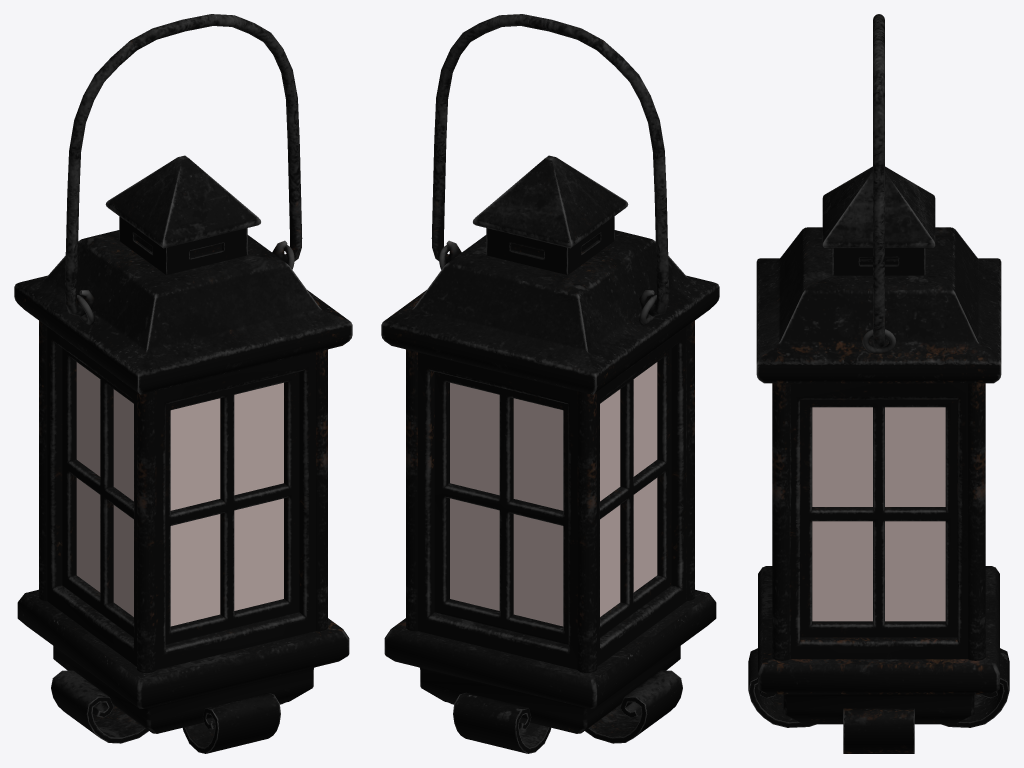
File: lantern.fbx
3 renders of one model, left to right at view 1: azimuth 30°, elevation 25°; view 2: azimuth 150°, elevation 25°; view 3: azimuth 270°, elevation 25°, orthographic.
Visible parts, largest first — view 1: lantern1.001; view 2: lantern1.001; view 3: lantern1.001.
Part boxes in pixels (x1=…): lantern1.001: x1=14, y1=14, x2=352, y2=753; lantern1.001: x1=381, y1=14, x2=719, y2=753; lantern1.001: x1=748, y1=14, x2=1009, y2=753.
Bounding box in the file's own units: 22.52 × 63.04 × 21.87.
